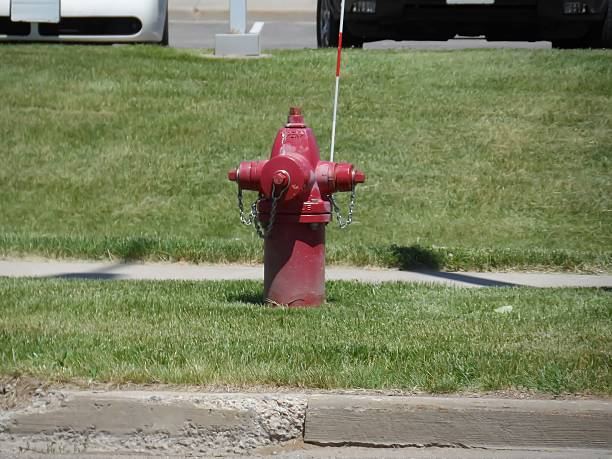firehdyrant: (222, 106, 368, 311)
